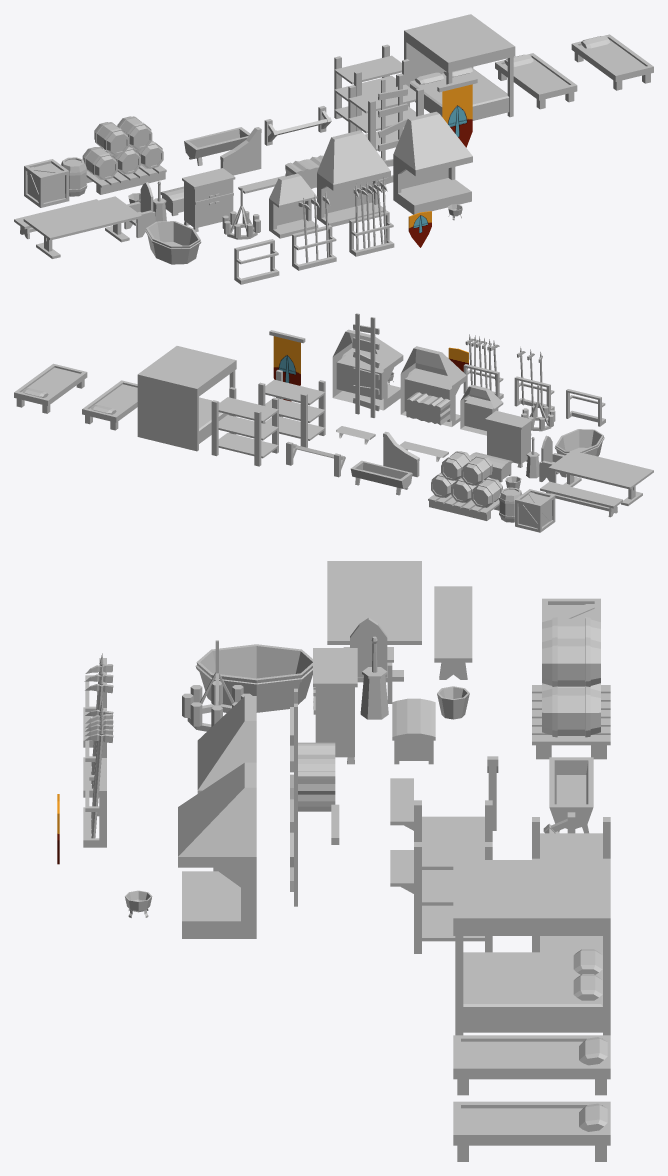
Rendered from mod_interior.fbx.
The picture shows the model from 3 angles, top to bottom: view 1: azimuth 30°, elevation 25°; view 2: azimuth 150°, elevation 25°; view 3: azimuth 270°, elevation 25°; orthographic projection. The views are drawn at different scales.
Visible parts, largest first — view 1: Cube.022, Cube.015, Cube.013, Cube.005, Cube, Cube.017, Cube.009, Cube.018, Cube.010, Cube.023, Cube.014, Cube.020 (+16 smaller); view 2: Cube.022, Cube.005, Cube.017, Cube.015, Cube.010, Cube.013, Cube, Cube.009, Cube.018, Cube.006, Cube.023, Cube.008 (+19 smaller); view 3: Cube.022, Cube.015, Cube.005, Cube.018, Cube.023, Cube, Cube.010, Cylinder.007, Cube.009, Cube.013, Cube.017, Cube.001 (+13 smaller).
Part boxes in pixels (box(x1,y1,x2,y2)): Cube.022: box(404, 14, 515, 120); Cube.015: box(393, 111, 472, 214); Cube.013: box(317, 130, 390, 226); Cube.005: box(82, 116, 166, 194); Cube: box(23, 196, 141, 258); Cube.017: box(334, 44, 409, 131); Cube.009: box(182, 168, 235, 231); Cube.018: box(571, 34, 653, 90); Cube.010: box(348, 73, 423, 150); Cube.023: box(495, 53, 577, 109); Cube.014: box(269, 173, 318, 238); Cube.020: box(349, 177, 394, 256); Cube.022: box(137, 346, 236, 451); Cube.005: box(428, 451, 502, 520); Cube.017: box(211, 387, 278, 466); Cube.015: box(332, 329, 403, 410); Cube.010: box(258, 369, 325, 447); Cube.013: box(400, 346, 466, 426); Cube: box(548, 450, 653, 505); Cube.009: box(485, 410, 532, 467); Cube.018: box(14, 363, 87, 413); Cube.006: box(353, 313, 379, 417); Cube.023: box(82, 380, 137, 430); Cube.008: box(515, 489, 555, 532); Cube.022: box(453, 860, 610, 1035); Cube.015: box(178, 762, 256, 938); Cube.005: box(532, 617, 610, 759); Cube.018: box(453, 1101, 610, 1161); Cube.023: box(453, 1035, 610, 1095); Cube: box(327, 561, 421, 681); Cube.010: box(414, 800, 492, 953); Cylinder.007: box(195, 644, 312, 712); Cube.009: box(313, 648, 357, 764); Cube.013: box(197, 696, 256, 871); Cube.017: box(532, 817, 610, 952); Cube.001: box(434, 586, 472, 679).
Size of the model in its own units: 33.4 by 5.6 by 14.07.
